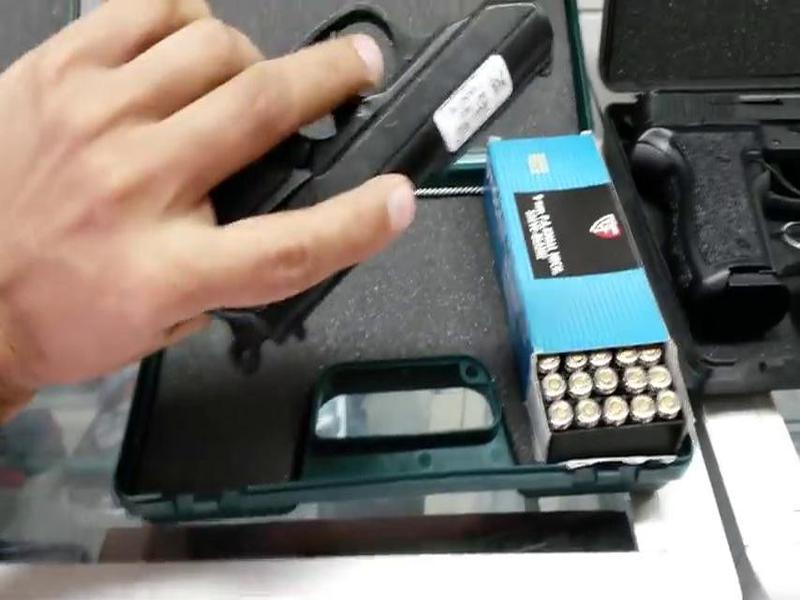Pistola: (46, 1, 561, 349)
